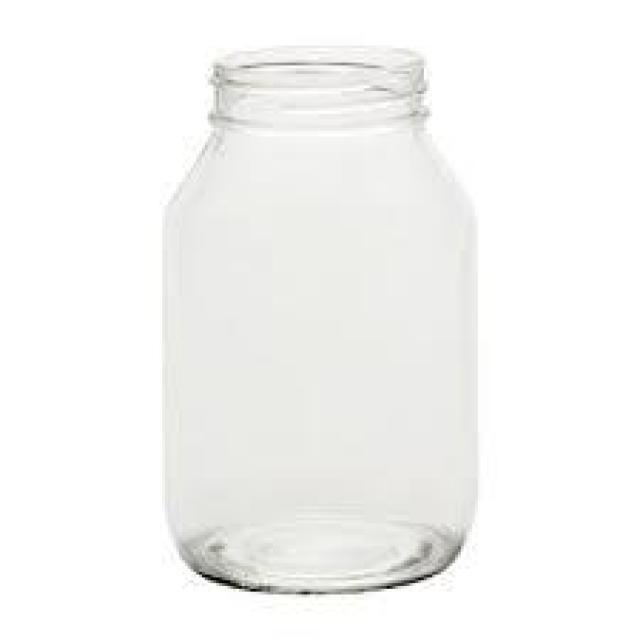Glass: (158, 44, 480, 597)
